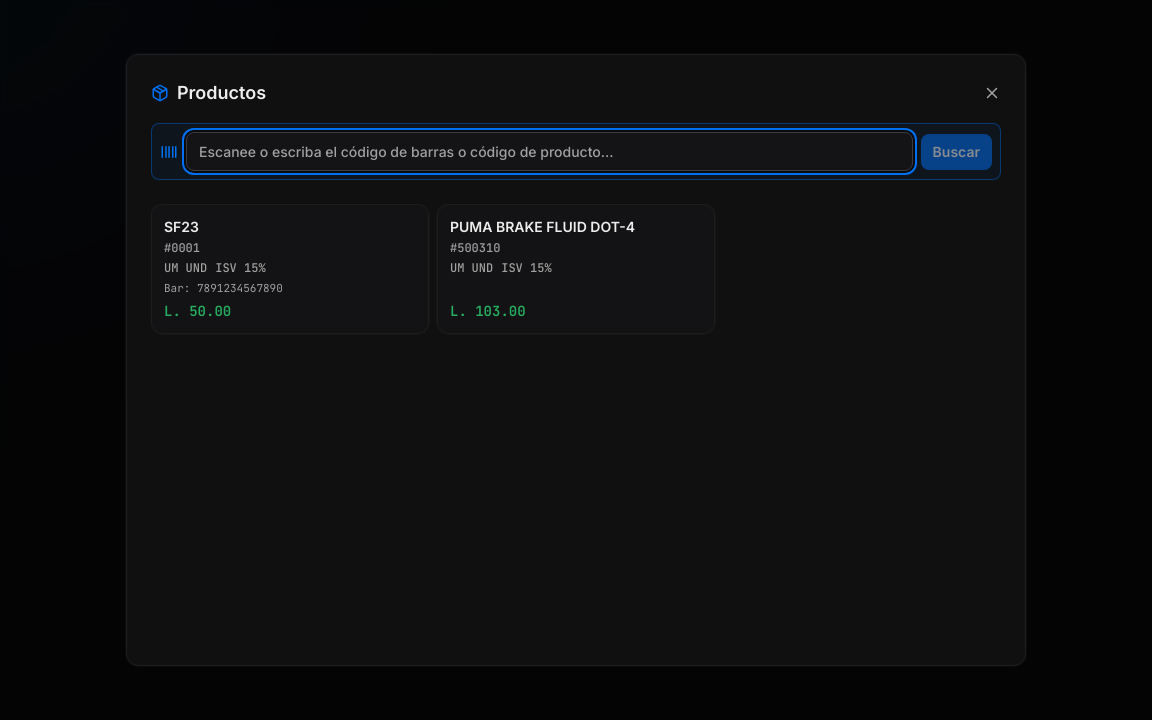
Test: ProductModal › busca por código de barras y agrega; muestra error si no existe
Type "9876543210987" into the field with placeholder "Escanee o escriba el código de barras o código de producto…" at (549, 152), box [186,132,913,171]
Then press Enter
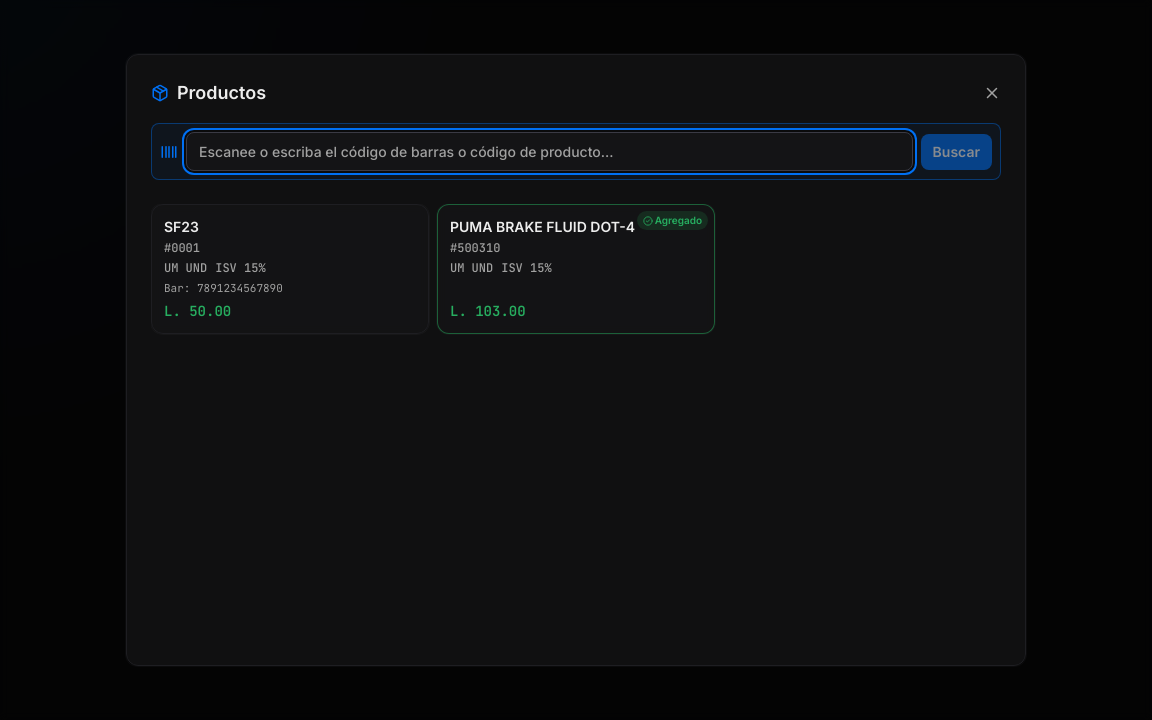
Type "NOEXISTE" into the field with placeholder "Escanee o escriba el código de barras o código de producto…" at (549, 152), box [186,132,913,171]
Then press Enter
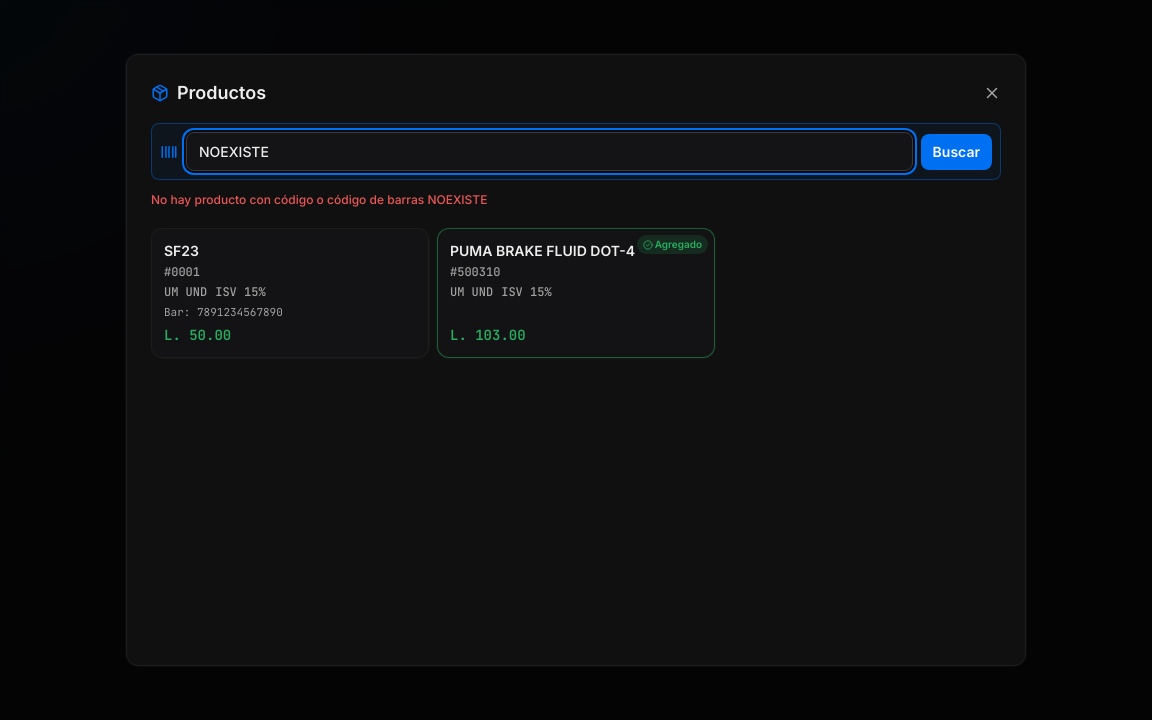
Now the text "No hay producto con código o código de barras NOEXISTE" is shown, box [151,192,487,207]
